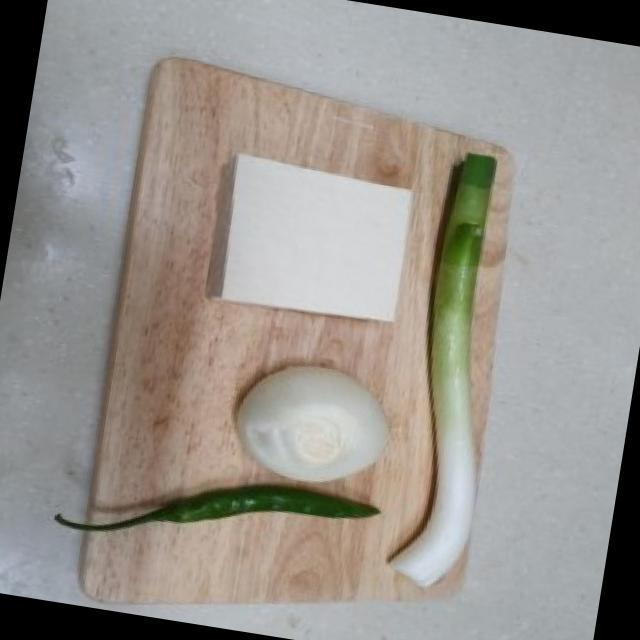Onion: (229, 359, 391, 485)
